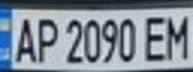0: (118, 13, 142, 64), (81, 15, 103, 64)
2: (60, 15, 84, 64)
9: (100, 15, 121, 64)
A: (9, 12, 39, 64)
E: (139, 12, 172, 62)
M: (163, 11, 193, 61)
P: (33, 13, 60, 64)
